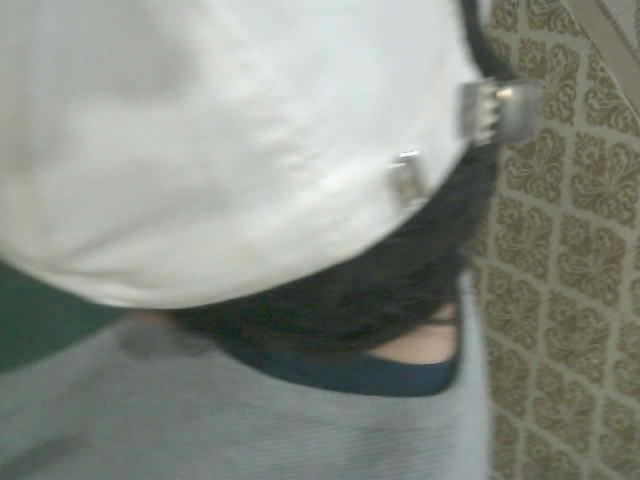cap: (0, 0, 516, 310)
